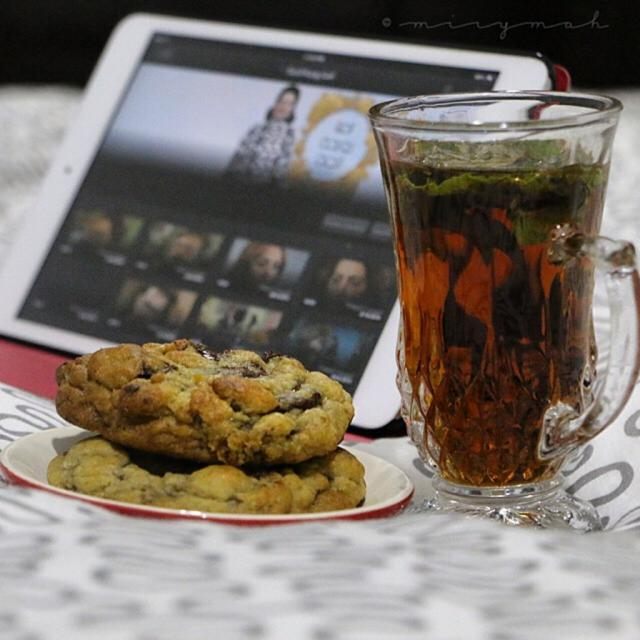Tea: (382, 137, 602, 488)
